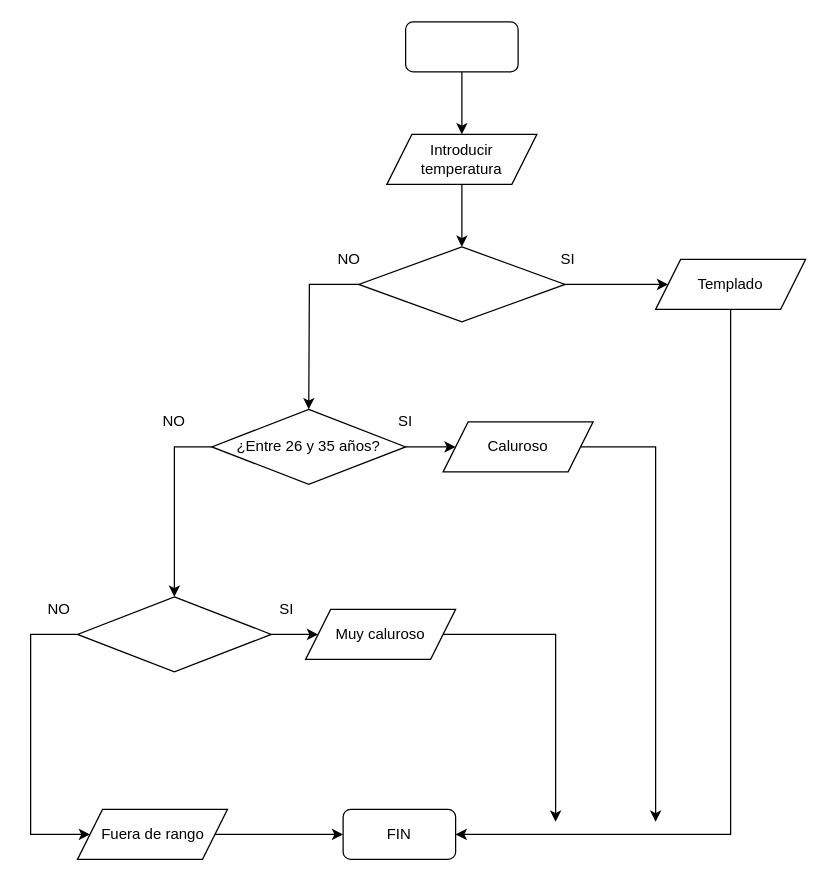
This 828x881 diagram has some shape labels left out. Here are the shapes that lost their labels. From the top down, the centre of each, then its label:
At pixel 461 46: "INICIO".
At pixel 461 284: "¿Entre 10 y 15 grados?".
At pixel 173 634: "¿Mayor de 35 grados?".
